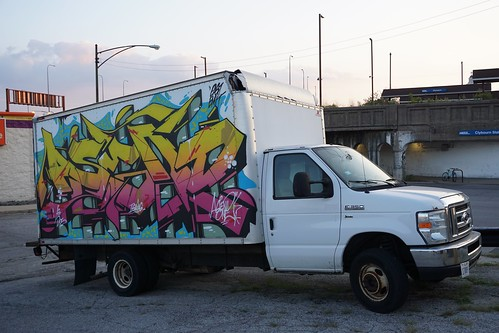graffiti: (32, 76, 267, 249)
truck: (29, 93, 462, 298)
